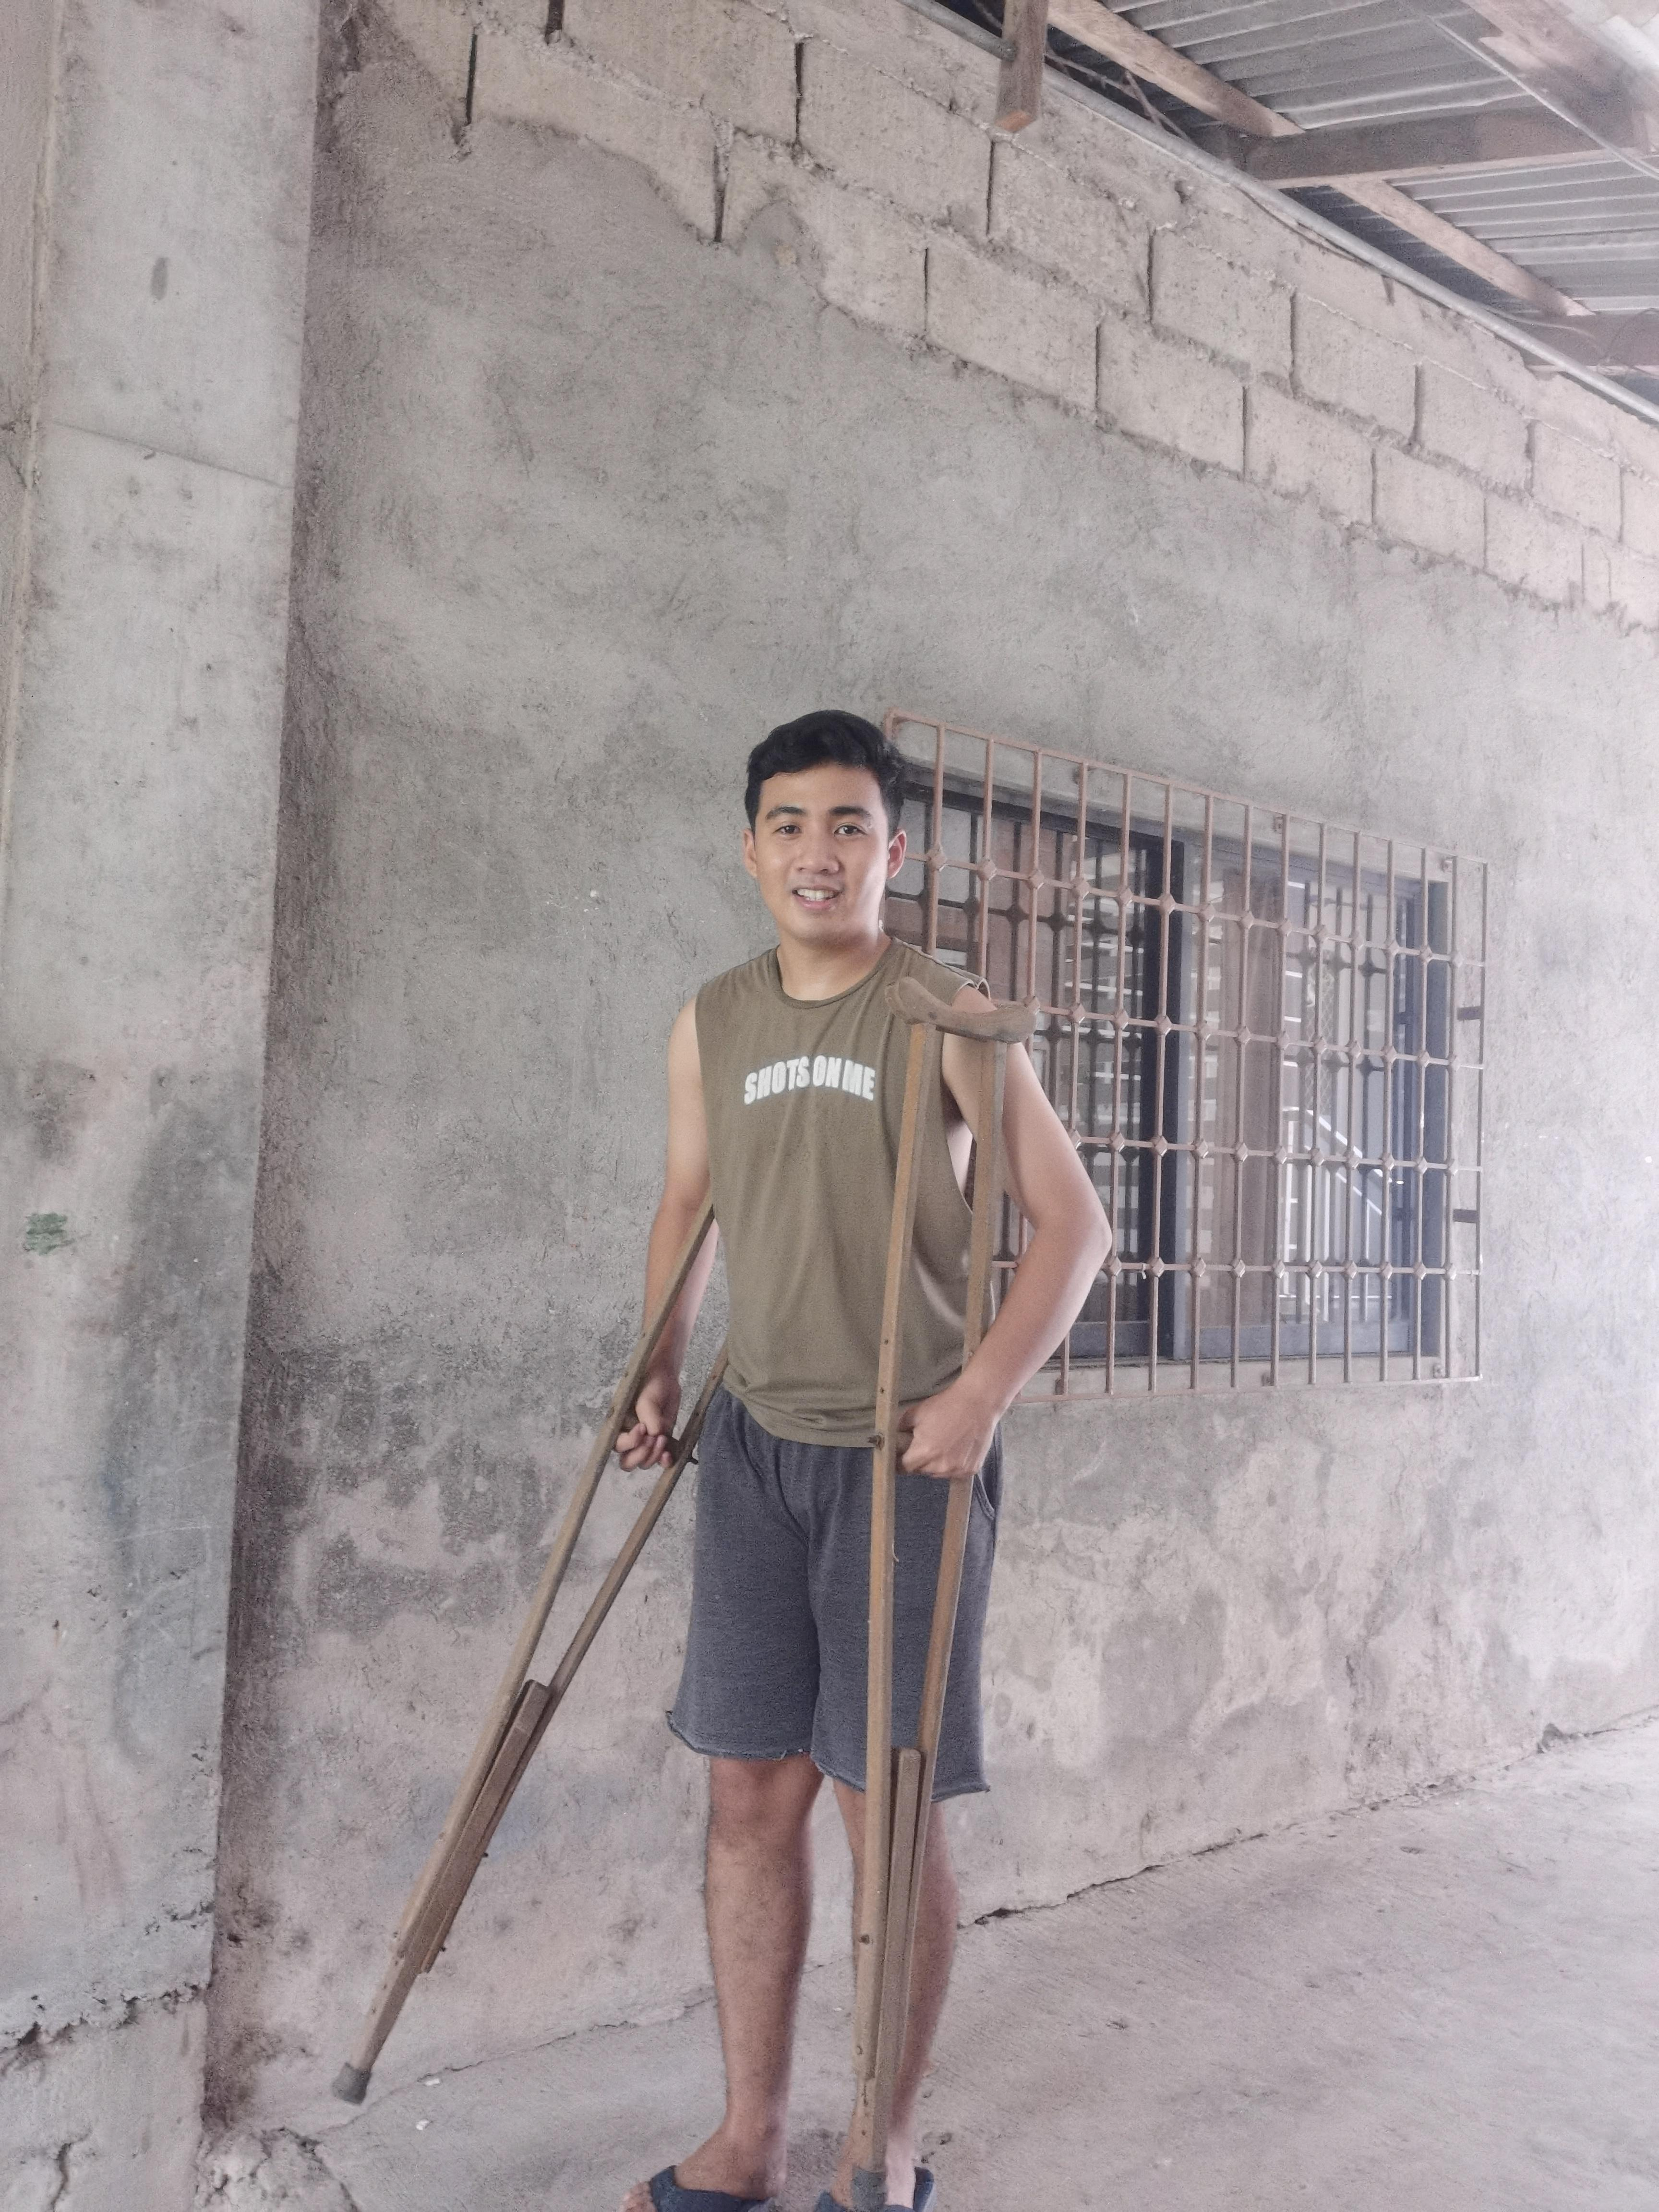crutches: (303, 688, 1129, 2212)
